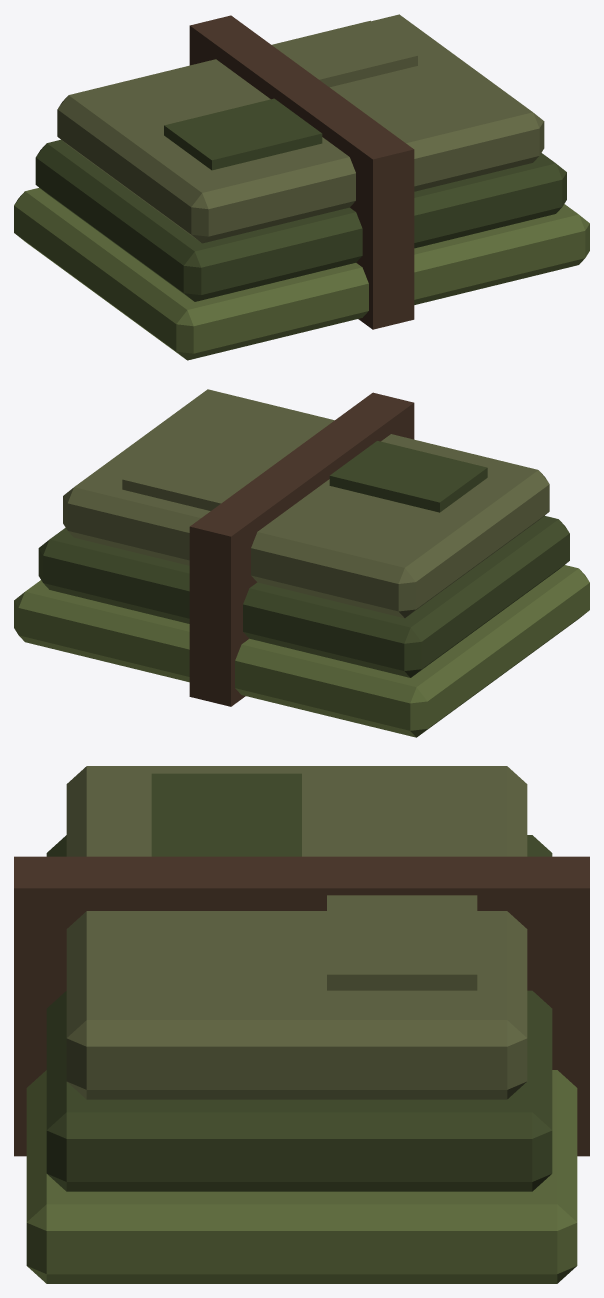
File: mod_cloth_camo_foliage.glb
3 views of the same model, one above another, from view 1: azimuth 30°, elevation 25°; view 2: azimuth 150°, elevation 25°; view 3: azimuth 270°, elevation 25° (orthographic). The views are drawn at different scales.
Parts seen in each view (by area): view 1: camo_foliage; view 2: camo_foliage; view 3: camo_foliage.
Part boxes in pixels (<box>): camo_foliage: <box>14,14,589,360</box>; camo_foliage: <box>14,389,589,737</box>; camo_foliage: <box>14,766,589,1283</box>.
Bounding box in the file's own units: 0.3 × 0.118 × 0.23.
